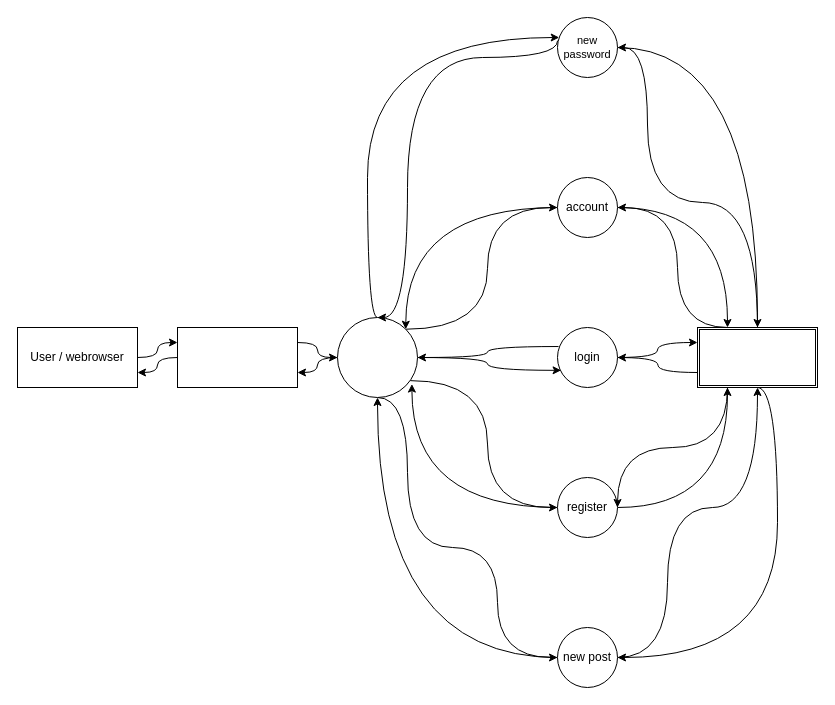
Some shapes in this 835 by 705 pixel diagram are drawn without their labels. The box of each missing label's shape, as (x1, y1, x2, y2) in pixels:
Application: (336, 316, 418, 398)
Database: (696, 326, 818, 388)
Heroku Server: (176, 326, 298, 388)
